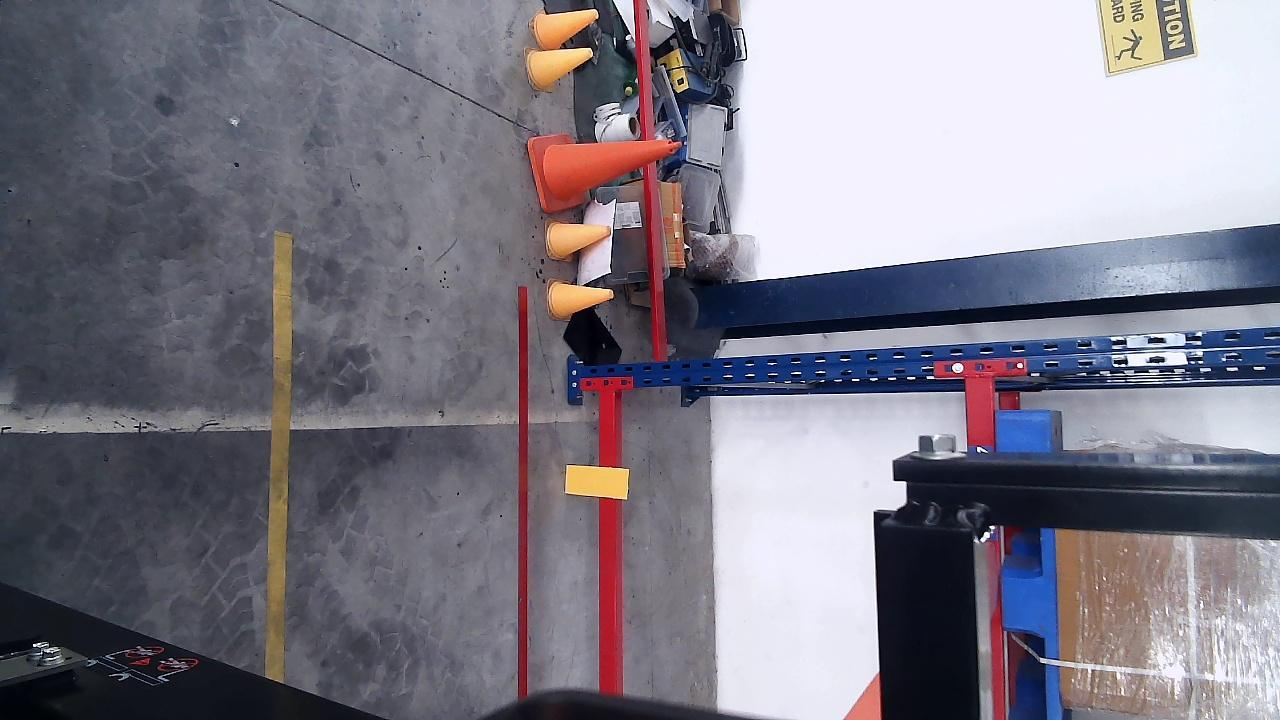orange_strip: (564, 466, 630, 497)
red_line: (601, 388, 625, 691), (514, 286, 527, 697)
small_pallet: (998, 413, 1066, 718)
yellow_line: (266, 233, 291, 683)
